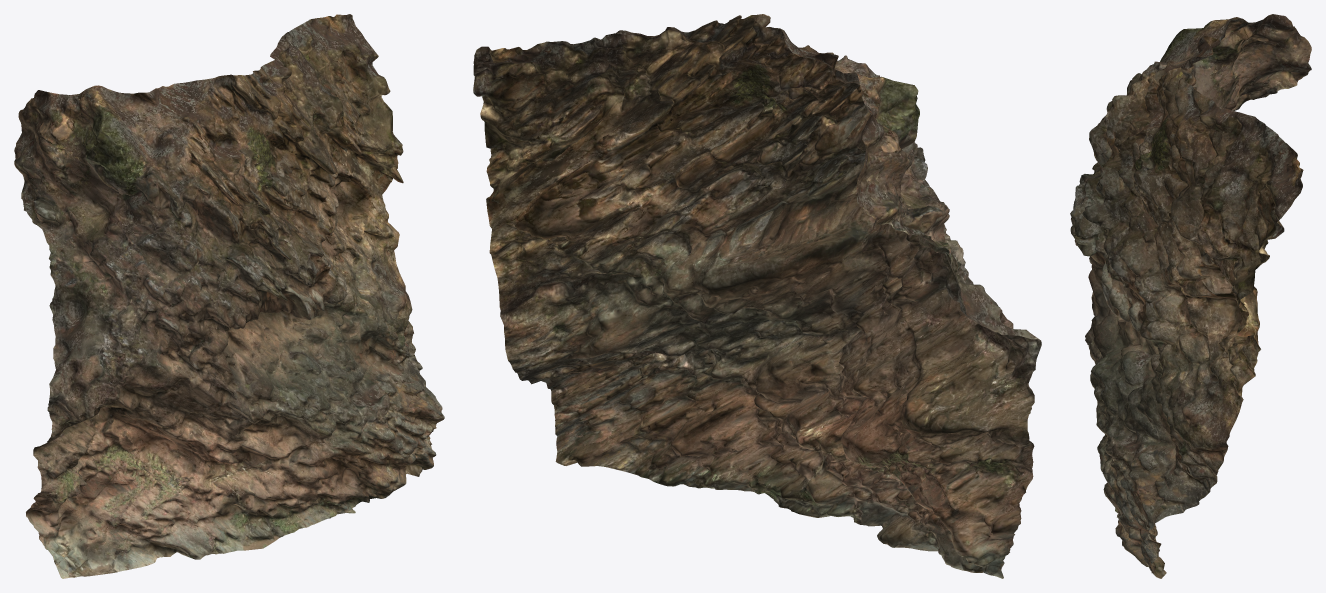
File: mountainside.glb
3 renders of one model, left to right at view 1: azimuth 30°, elevation 25°; view 2: azimuth 150°, elevation 25°; view 3: azimuth 270°, elevation 25°, orthographic. The views are drawn at different scales.
Visible parts, largest first — view 1: mountainside; view 2: mountainside; view 3: mountainside.
Boxes of the visible parts, x1,y1,x2,y2 form: mountainside: (14,14,444,578); mountainside: (473,14,1041,578); mountainside: (1070,14,1311,578).
Size of the model in its own units: 10.21 by 10.52 by 5.25.
Materials: 1 (1 with a texture image).
